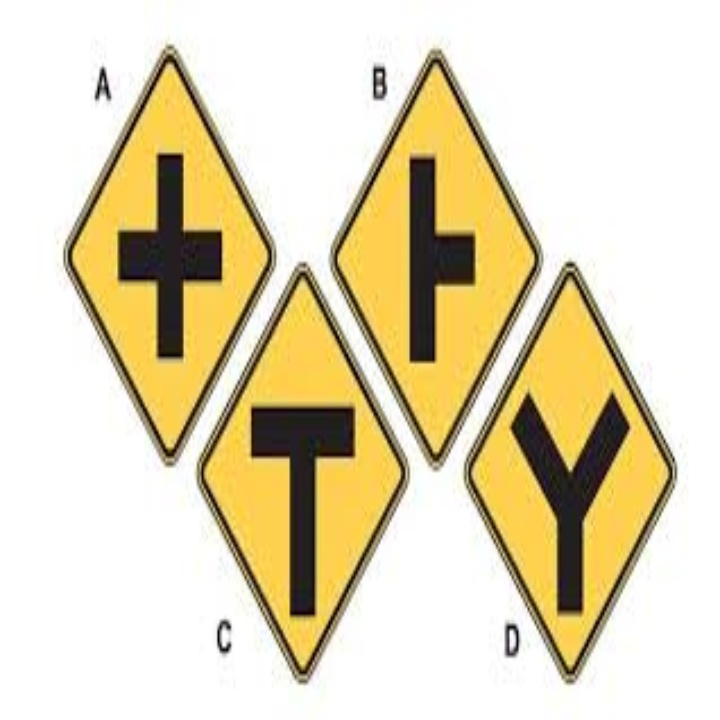inter: (111, 145, 231, 364)
